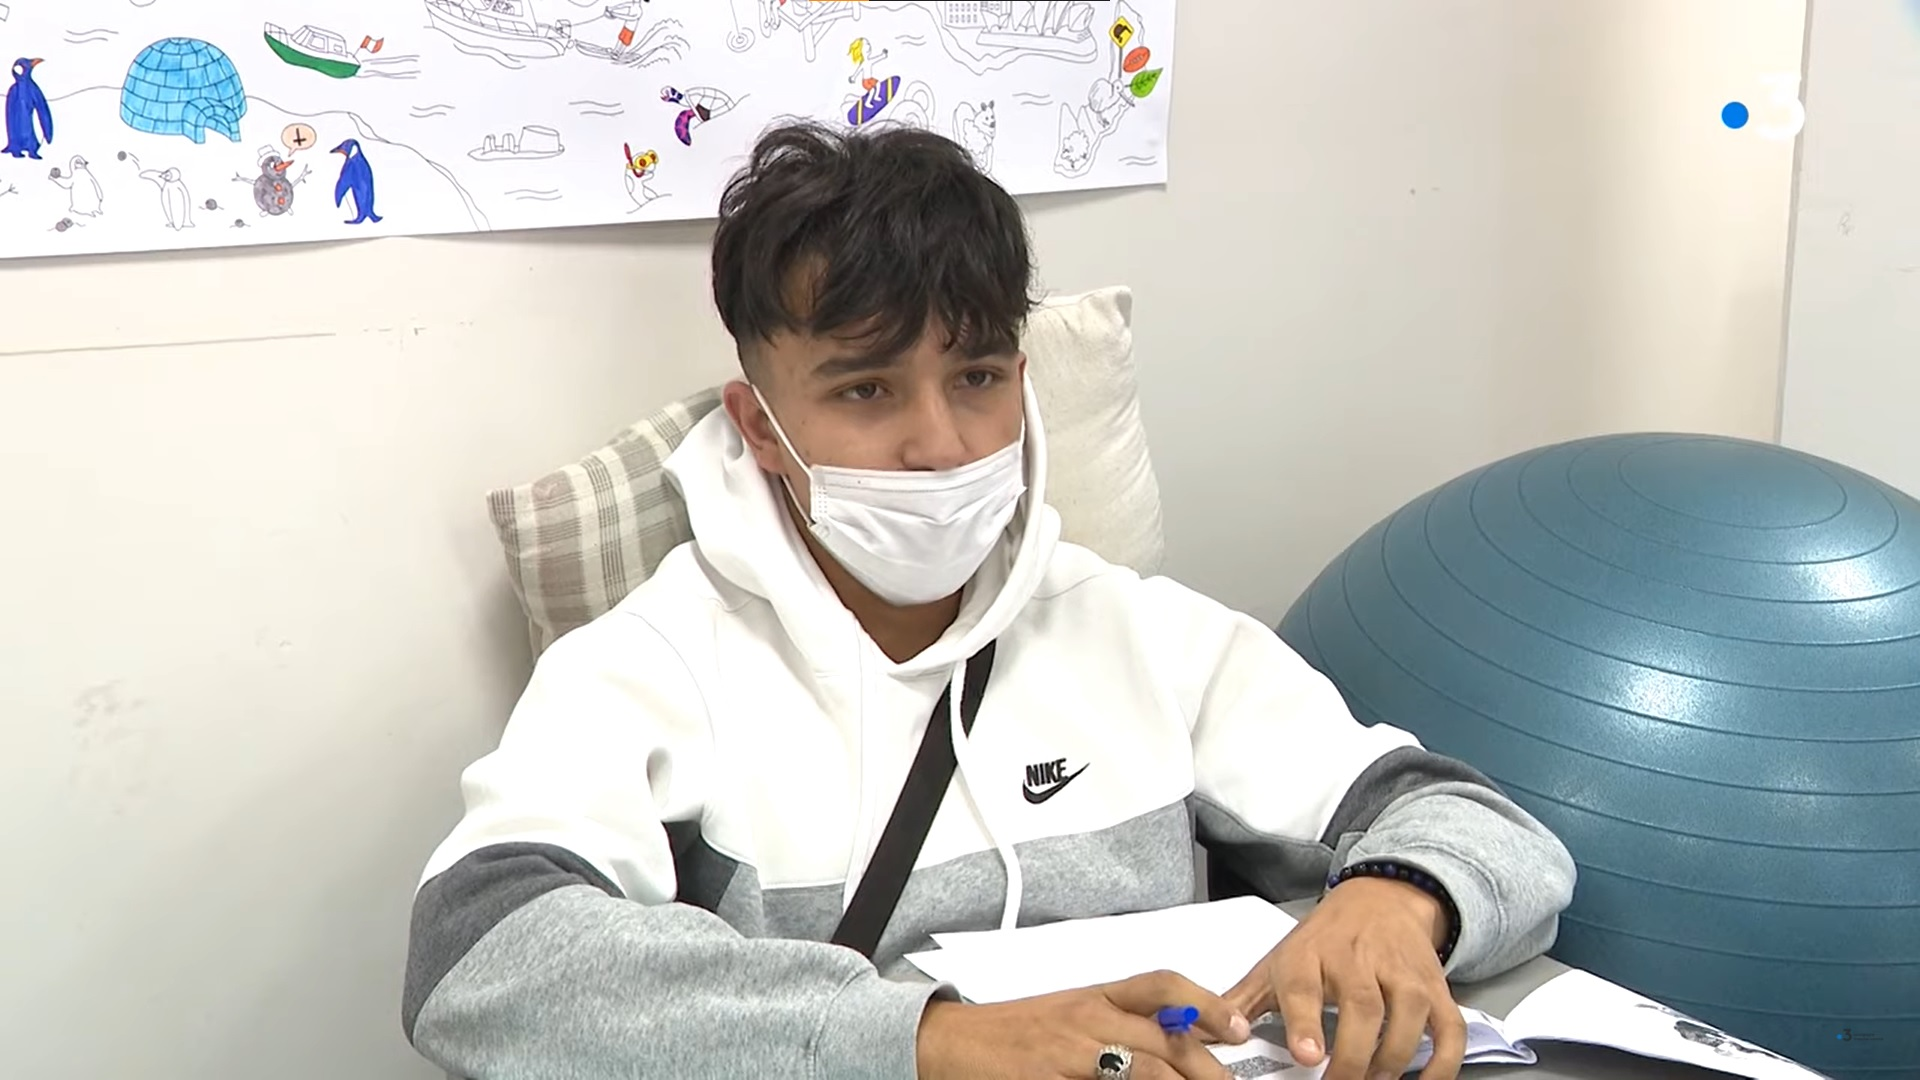with_incorrect_mask: (765, 286, 1026, 605)
